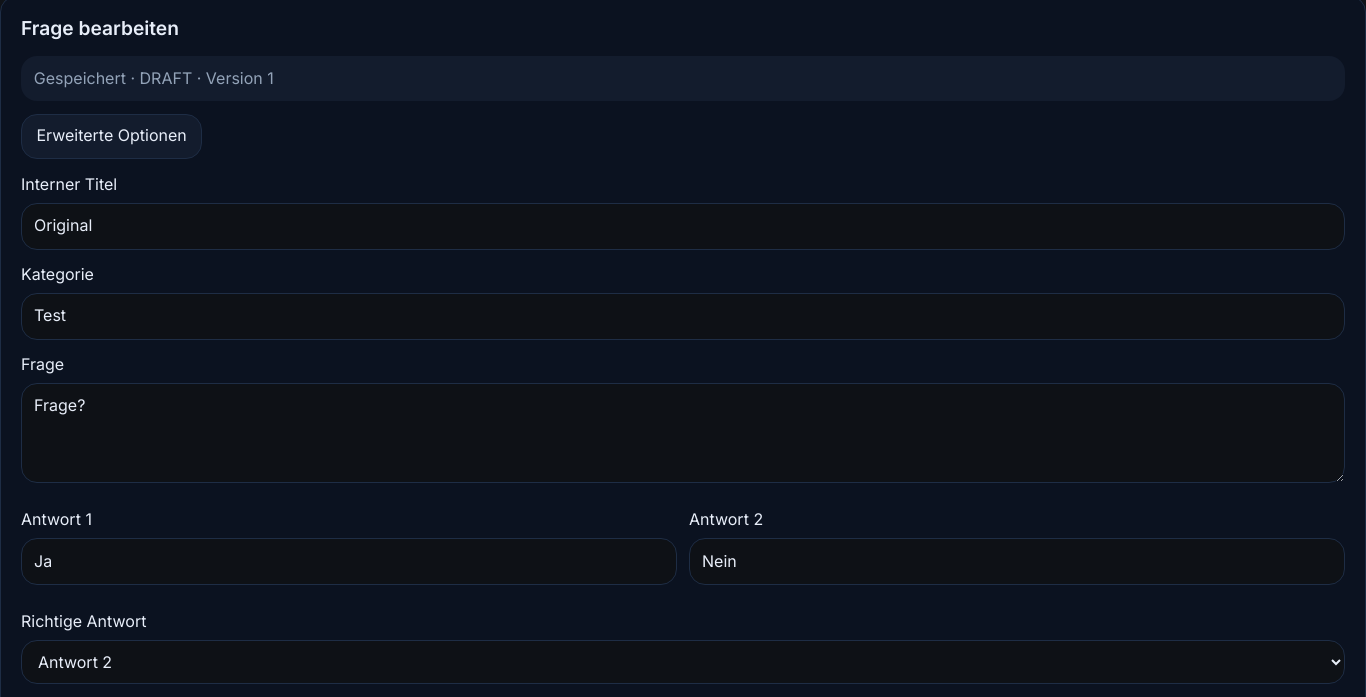
Test: preserves local text after a revision conflict and pauses automatic retry
The image size is (1366, 697).
Type " Mein Entwurf" into the text box labelled "Frage" at (683, 433), box [21, 383, 1345, 483]
(page scrolled)
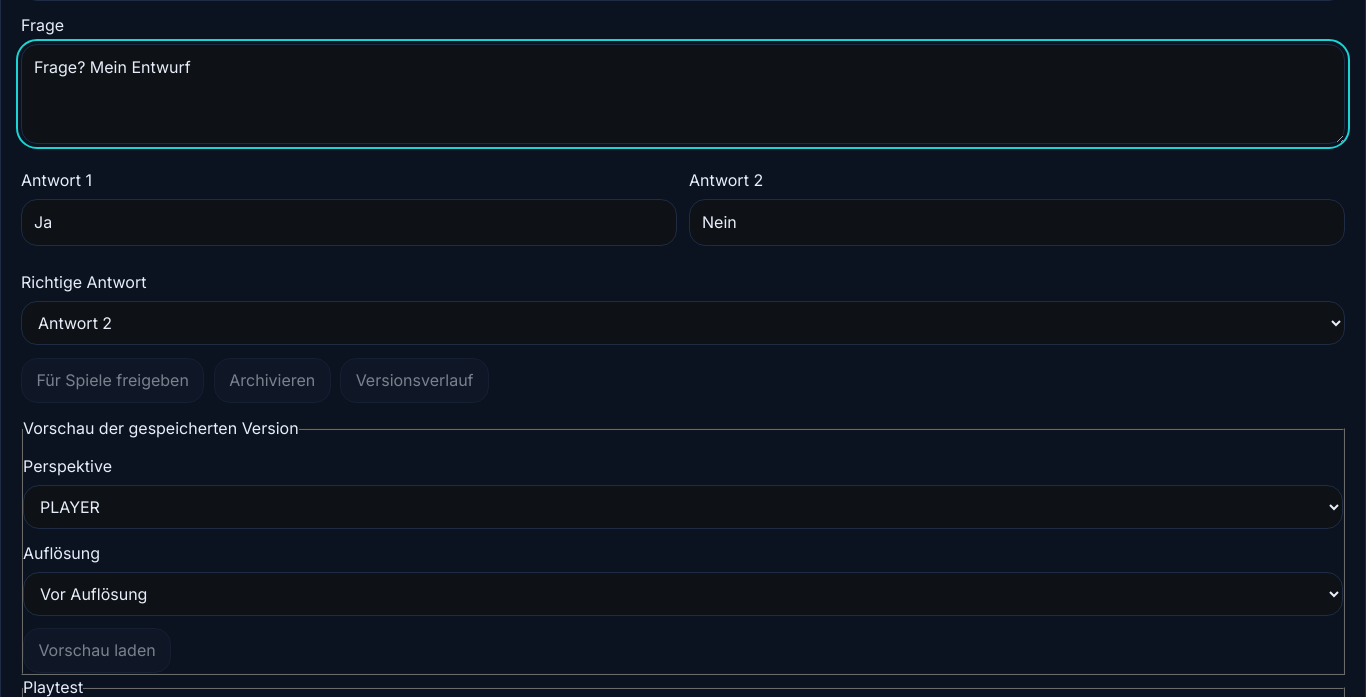
Now the text box labelled "Frage" holds "Frage? Mein Entwurf", box [21, 44, 1345, 144]
Now the button "Für Spiele freigeben" is disabled, box [21, 358, 204, 403]
